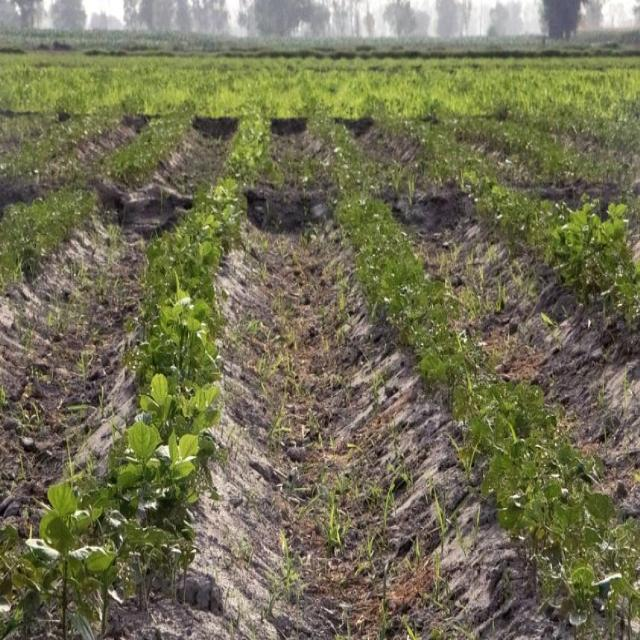row: (185, 120, 554, 640), (345, 118, 640, 542), (0, 110, 243, 521)
